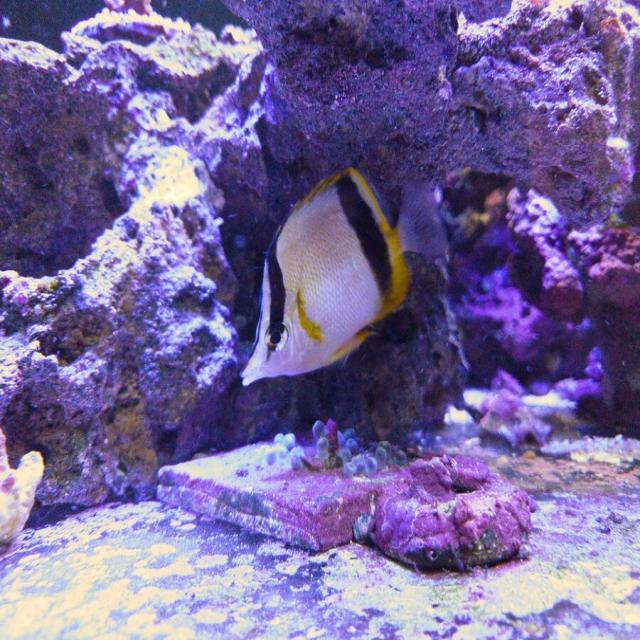ButterflyFish: (240, 166, 446, 385)
